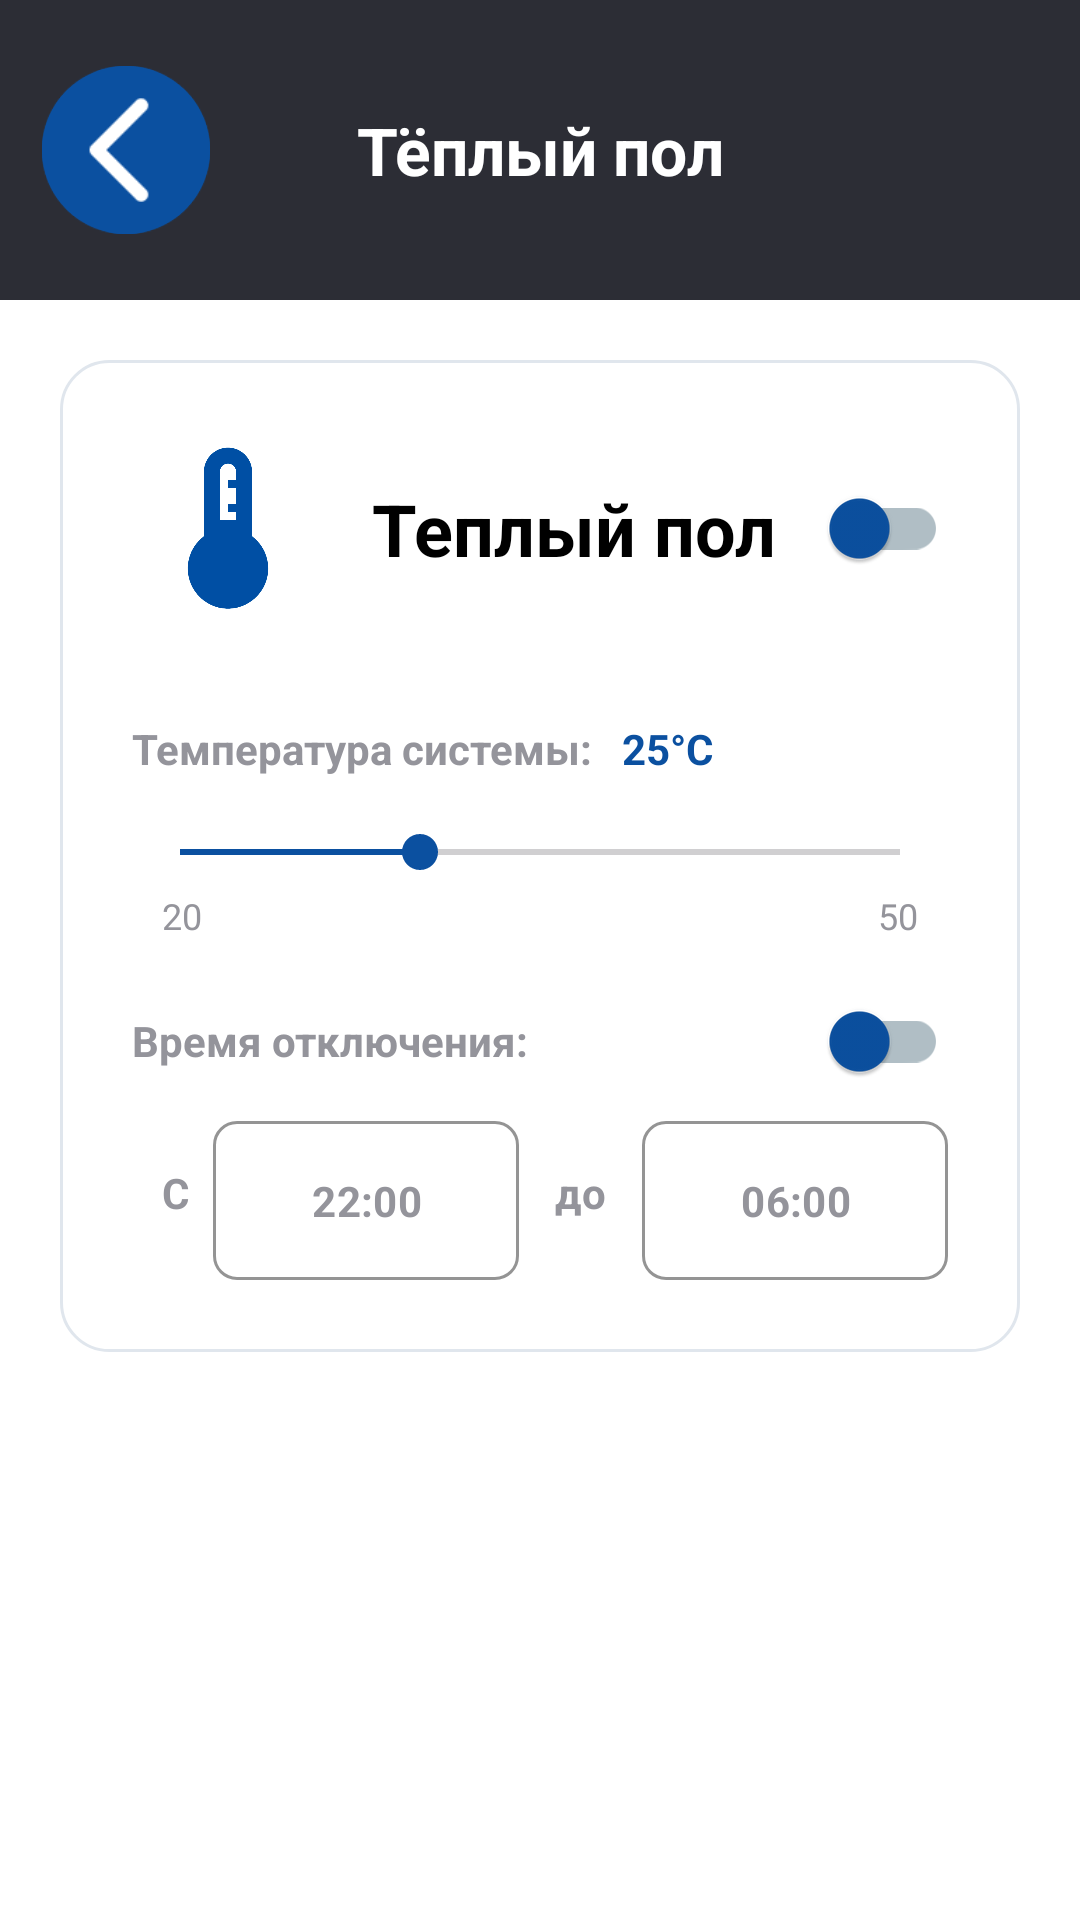

Icon click points for this 1080px×1920px phone screenshot, format (x=x, y=y):
backarrow: (x=126, y=150)
term: (x=228, y=528)
